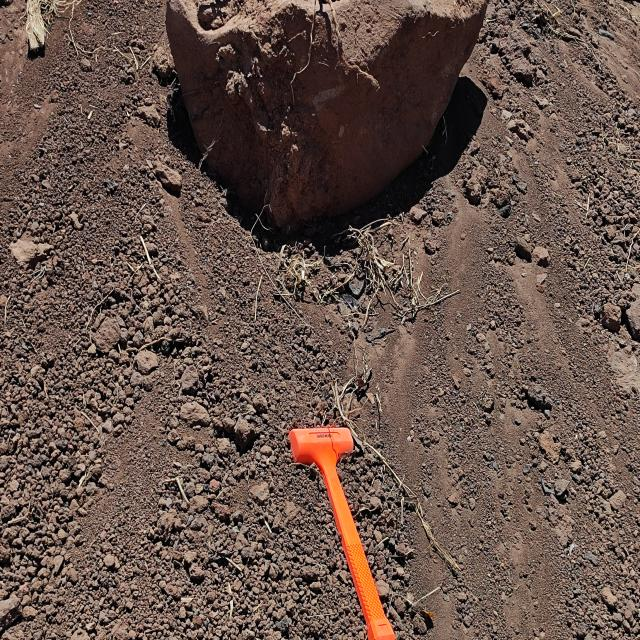Orange_hammer: (288, 425, 396, 639)
